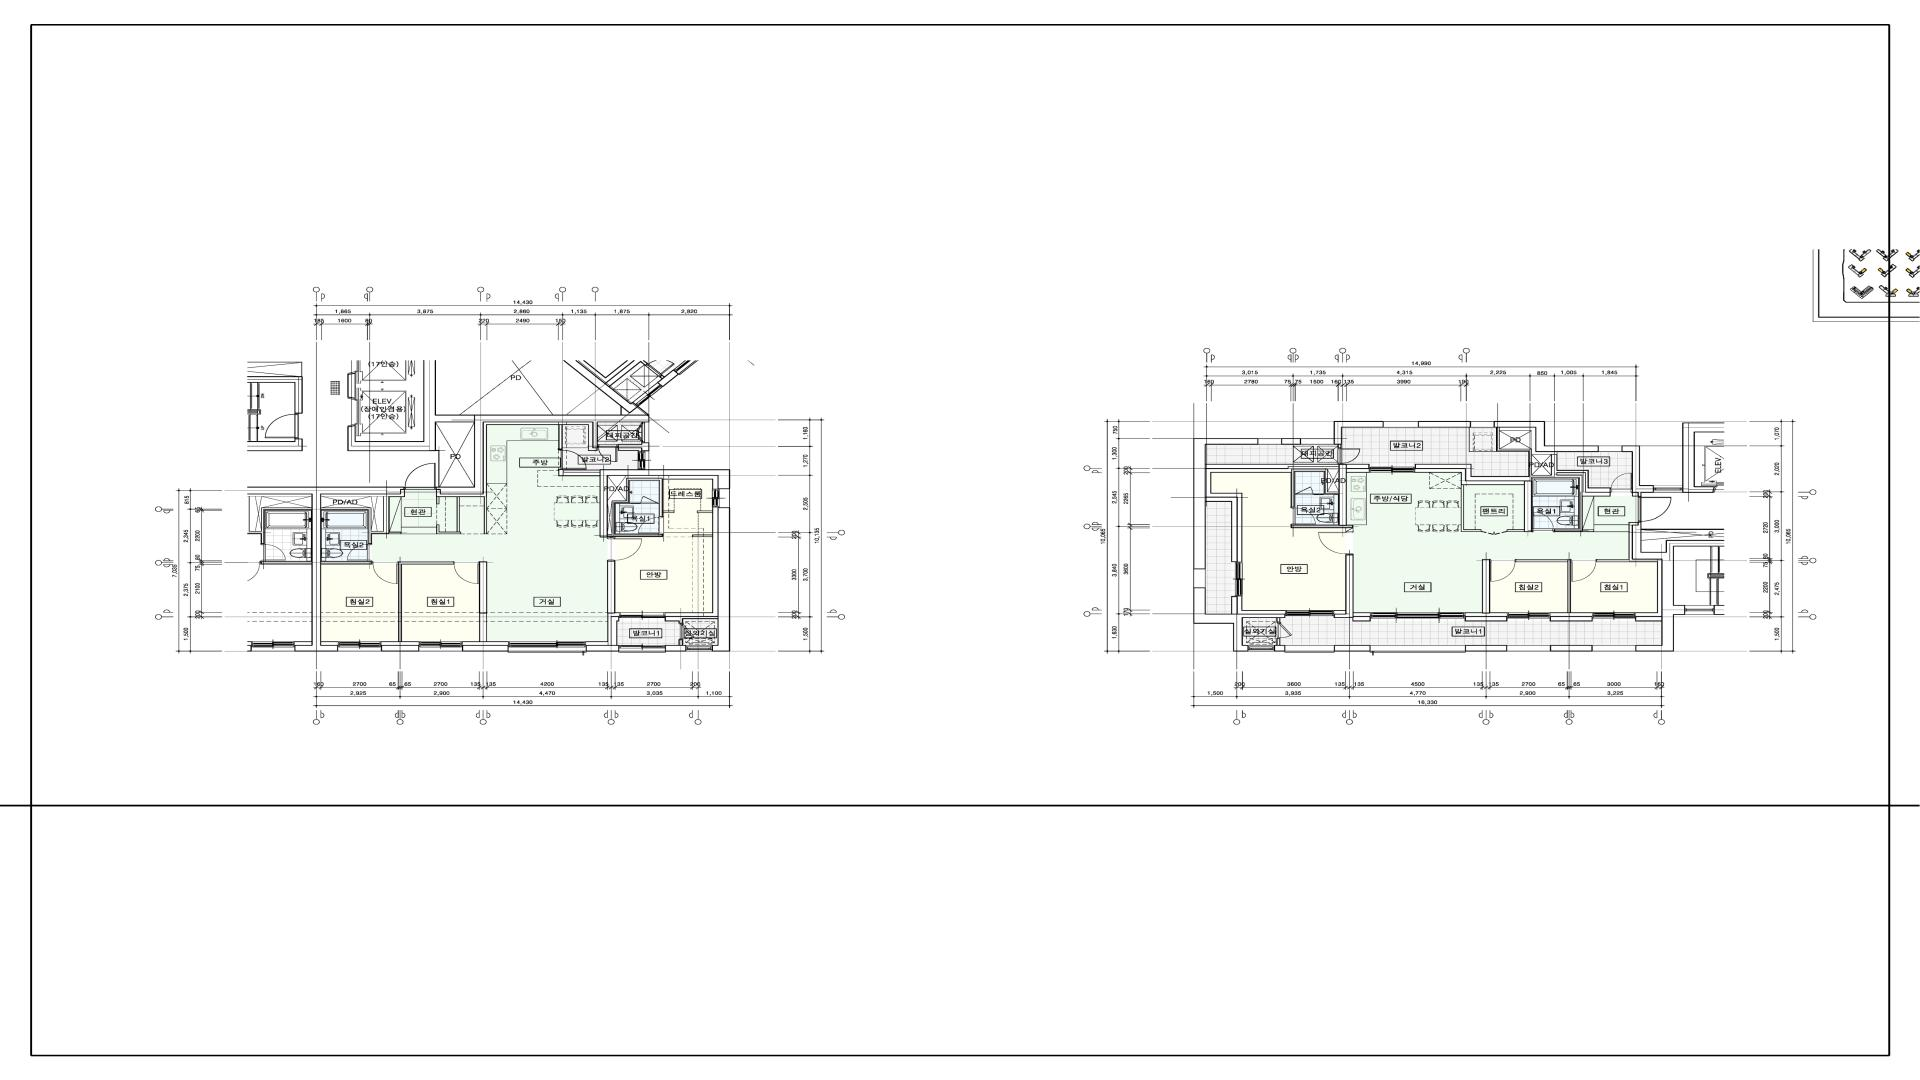door: (1638, 497, 1672, 522), (405, 463, 435, 489), (607, 538, 642, 560), (1319, 531, 1353, 554), (1489, 559, 1516, 582), (372, 562, 398, 584), (1571, 559, 1597, 582), (562, 450, 591, 469), (454, 562, 479, 584), (1532, 512, 1555, 533), (638, 516, 663, 534), (347, 543, 372, 562), (1291, 508, 1316, 525), (1611, 473, 1633, 492), (1337, 448, 1361, 464), (597, 444, 617, 462), (1276, 622, 1292, 638), (1481, 529, 1507, 535), (641, 496, 659, 504), (1295, 487, 1313, 495)
wall: (1415, 427, 1611, 533), (436, 414, 650, 495), (311, 487, 405, 651), (1205, 464, 1370, 531), (600, 469, 731, 538), (1193, 438, 1258, 570), (1193, 588, 1286, 651), (1631, 522, 1675, 651), (398, 562, 454, 642), (322, 496, 402, 543), (1494, 421, 1598, 452), (608, 477, 663, 537), (1516, 559, 1571, 613), (712, 508, 731, 651), (1335, 554, 1370, 621), (1205, 497, 1238, 562), (1622, 446, 1654, 497), (1333, 421, 1383, 448), (1461, 484, 1481, 531), (436, 497, 462, 534), (479, 562, 487, 642), (607, 560, 616, 613), (1482, 559, 1490, 613), (665, 616, 717, 624), (1418, 421, 1470, 427), (462, 645, 509, 651), (558, 469, 600, 476), (1465, 645, 1507, 651), (1551, 645, 1593, 651), (611, 616, 620, 645), (617, 443, 650, 451), (381, 645, 419, 651), (1335, 645, 1370, 651), (1549, 616, 1593, 621), (585, 645, 620, 651), (1465, 616, 1507, 621), (1274, 638, 1284, 651), (665, 645, 686, 651), (322, 562, 372, 564), (1282, 438, 1302, 444), (558, 425, 563, 448), (484, 496, 487, 534), (1597, 559, 1630, 562), (692, 534, 712, 537), (698, 510, 712, 513), (663, 510, 674, 513), (679, 640, 683, 645), (436, 497, 439, 504), (629, 502, 641, 504), (1313, 493, 1324, 495)
window: (509, 641, 585, 653), (1370, 612, 1465, 621), (1370, 645, 1466, 653), (338, 641, 381, 651), (419, 641, 462, 651), (620, 612, 665, 621), (1370, 464, 1415, 473), (1592, 612, 1635, 621), (1284, 645, 1335, 653), (1507, 612, 1549, 621), (1286, 611, 1335, 618), (1232, 562, 1242, 596), (620, 645, 665, 653), (712, 489, 731, 508), (1507, 645, 1551, 651), (636, 422, 649, 443), (1593, 645, 1635, 651), (1383, 421, 1418, 427), (638, 451, 650, 469), (1193, 570, 1205, 588), (1302, 438, 1333, 444), (1247, 645, 1274, 651), (686, 645, 712, 651), (1258, 438, 1282, 444), (1470, 421, 1494, 427), (1598, 446, 1622, 452)
